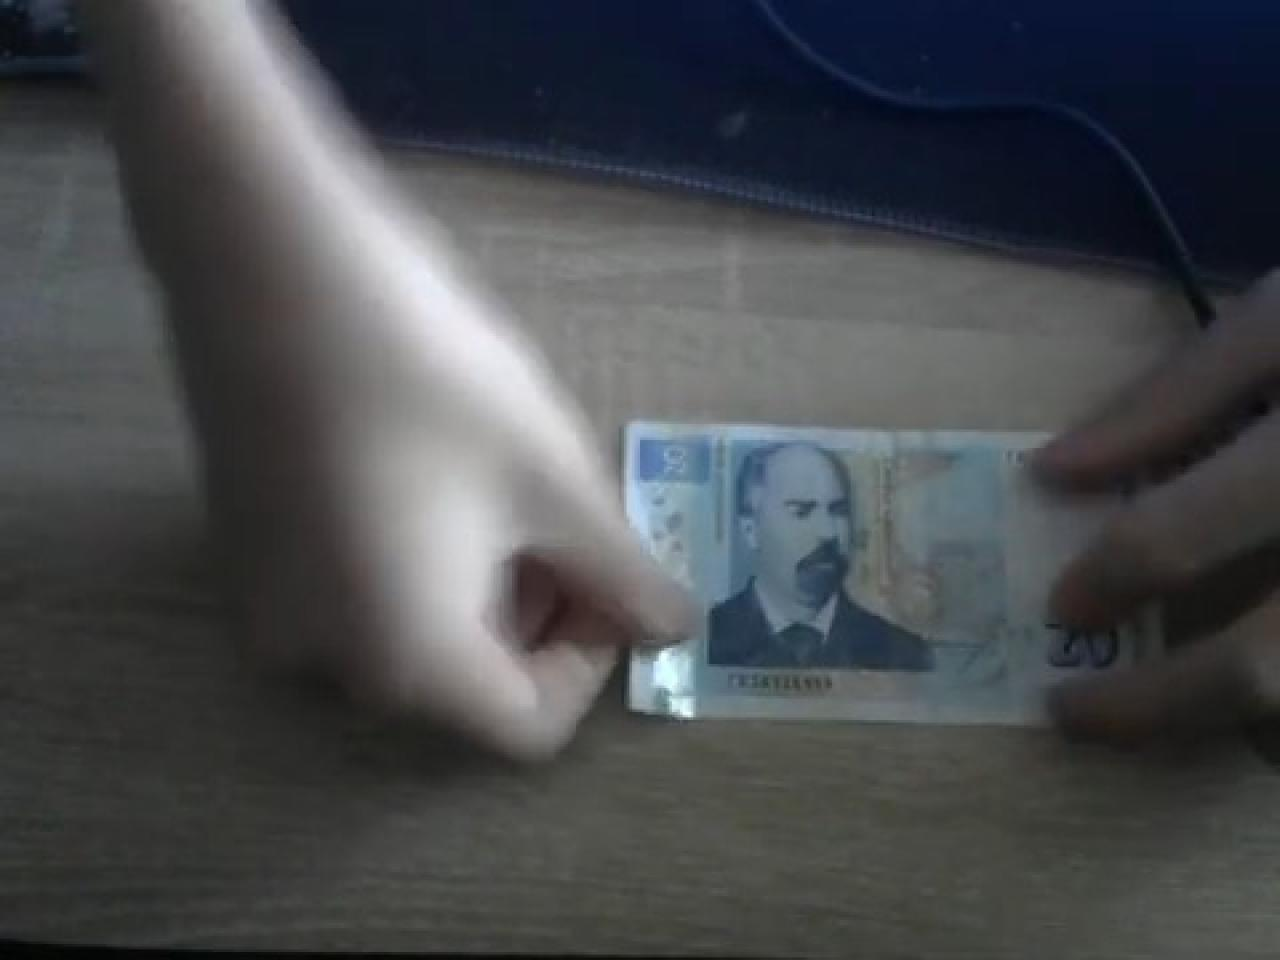20leva: (710, 443, 925, 672)
